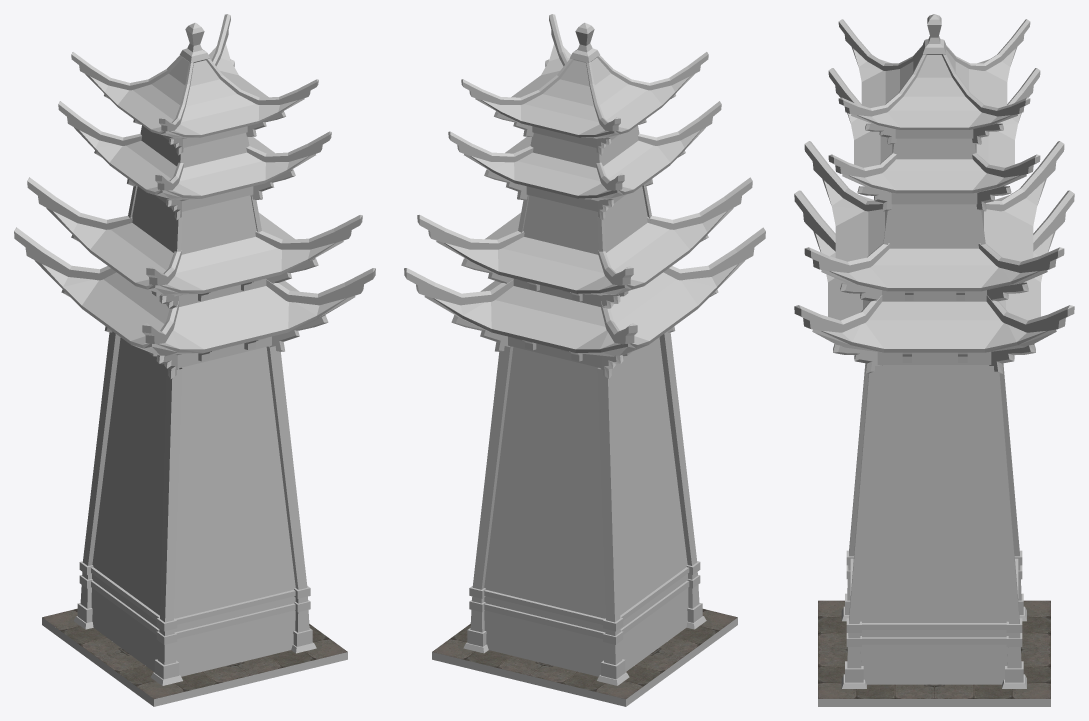
Rendered from s7_3d_jz_talou.FBX.
The picture shows the model from 3 angles, left to right: view 1: azimuth 30°, elevation 25°; view 2: azimuth 150°, elevation 25°; view 3: azimuth 270°, elevation 25°; orthographic projection. The views are drawn at different scales.
Visible parts, largest first — view 1: t_s7_3d_jz_shangpu_01, t_s7_3d_jz_shangpu_09; view 2: t_s7_3d_jz_shangpu_01, t_s7_3d_jz_shangpu_09; view 3: t_s7_3d_jz_shangpu_01, t_s7_3d_jz_shangpu_09.
Boxes of the visible parts, box(x1,y1,x2,y2) form: t_s7_3d_jz_shangpu_01: box(14, 14, 375, 706); t_s7_3d_jz_shangpu_09: box(42, 608, 347, 699); t_s7_3d_jz_shangpu_01: box(404, 14, 765, 706); t_s7_3d_jz_shangpu_09: box(432, 609, 737, 699); t_s7_3d_jz_shangpu_01: box(794, 14, 1074, 706); t_s7_3d_jz_shangpu_09: box(818, 600, 1050, 698).
Bounding box in the file's own units: 478 × 1212 × 478.
